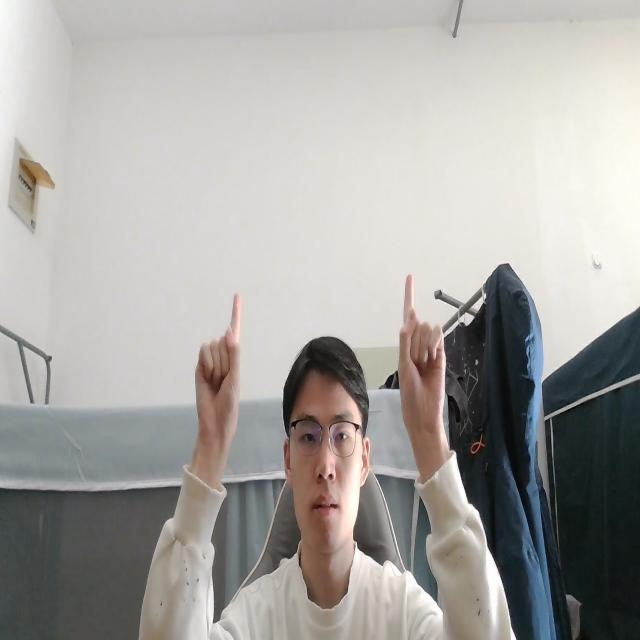one: (393, 269, 452, 464), (190, 288, 243, 476)
